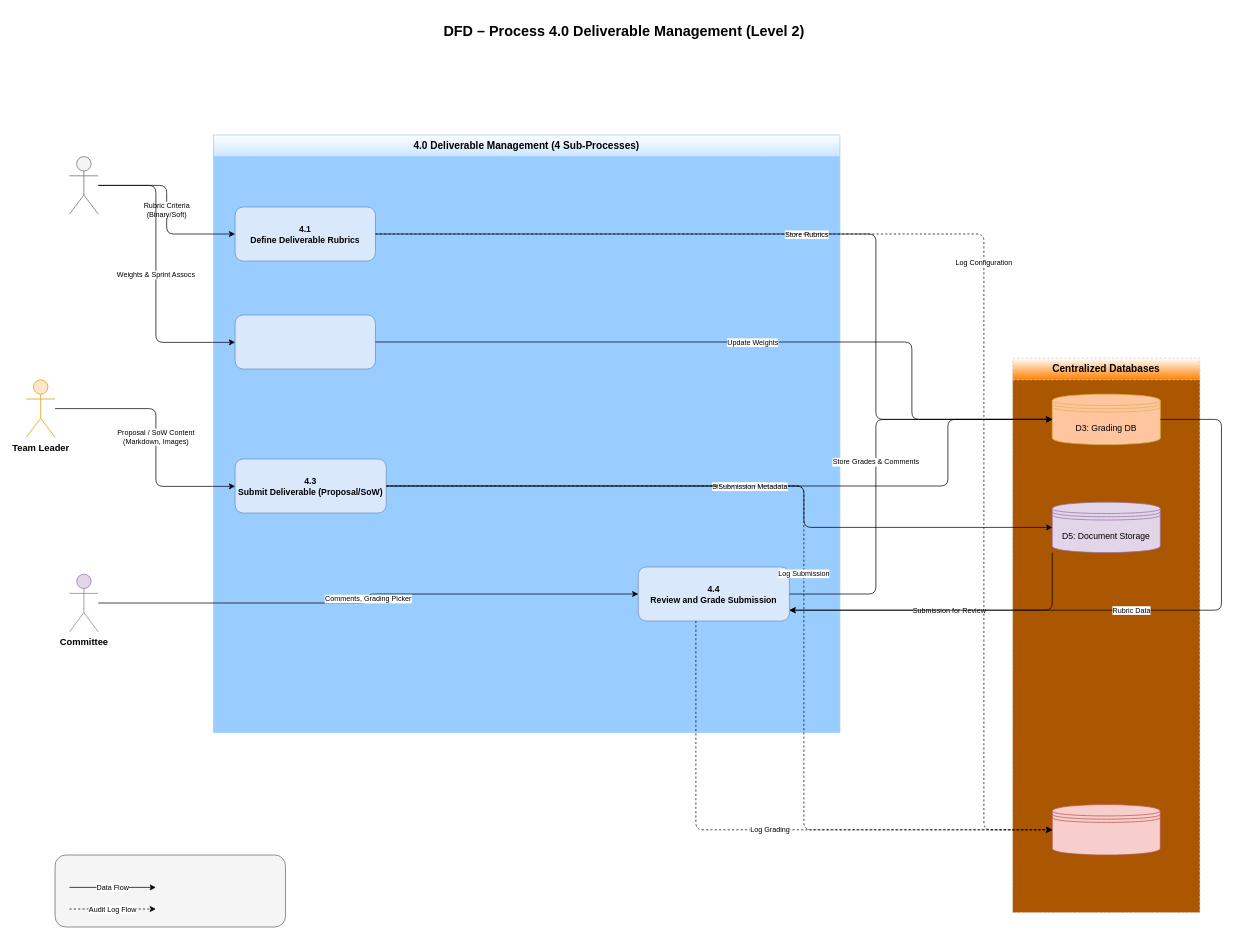
Some shapes in this 1240 by 940 pixel diagram are drawn without their labels. Each missing label, with the box of its shape:
4.2 Configure Grading Weights: (234, 314, 375, 369)
Coordinator: (69, 156, 98, 214)
D6: Audit Logs: (1052, 804, 1160, 855)
Legend: (54, 854, 285, 927)
